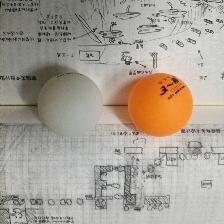WhiteBall: (37, 73, 103, 136)
YellowBall: (127, 72, 192, 137)
